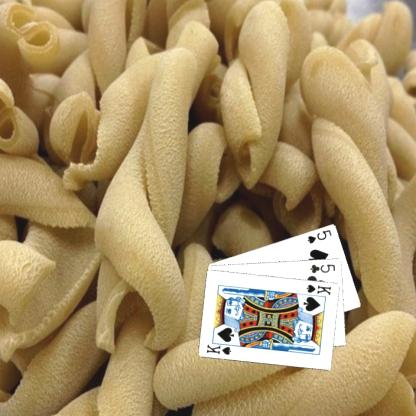5C: (308, 261, 336, 274)
5S: (305, 227, 333, 245)
KS: (204, 339, 236, 356), (303, 281, 332, 296)
